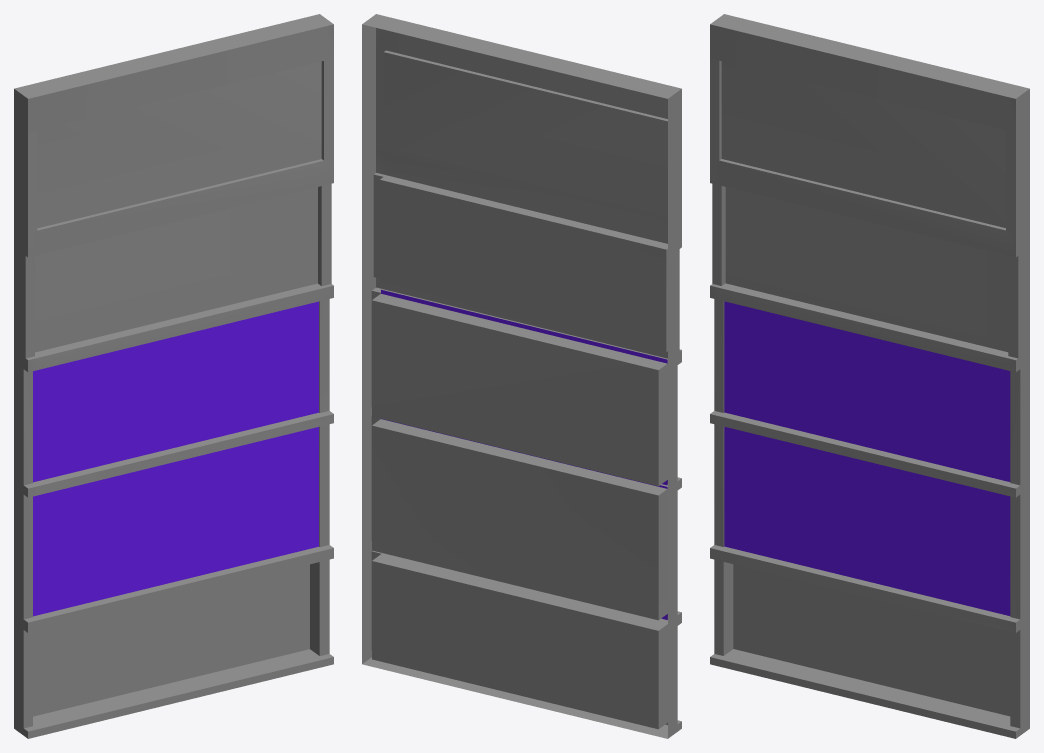
Rendered from Building_Tile_1250x2500_B.FBX.
3 views of the same model, side by side, from view 1: azimuth 30°, elevation 25°; view 2: azimuth 150°, elevation 25°; view 3: azimuth 330°, elevation 25° (orthographic).
Parts seen in each view (by area): view 1: Geometry_Building_Tile_1250x2500_B_LOD00; view 2: Geometry_Building_Tile_1250x2500_B_LOD00; view 3: Geometry_Building_Tile_1250x2500_B_LOD00.
Boxes of the visible parts, left/top/right/bottom form: Geometry_Building_Tile_1250x2500_B_LOD00: left=14, top=14, right=333, bottom=738; Geometry_Building_Tile_1250x2500_B_LOD00: left=362, top=14, right=681, bottom=738; Geometry_Building_Tile_1250x2500_B_LOD00: left=710, top=14, right=1029, bottom=738.
Size of what is drawn, in the model's own units: 1250 by 2500 by 100.
